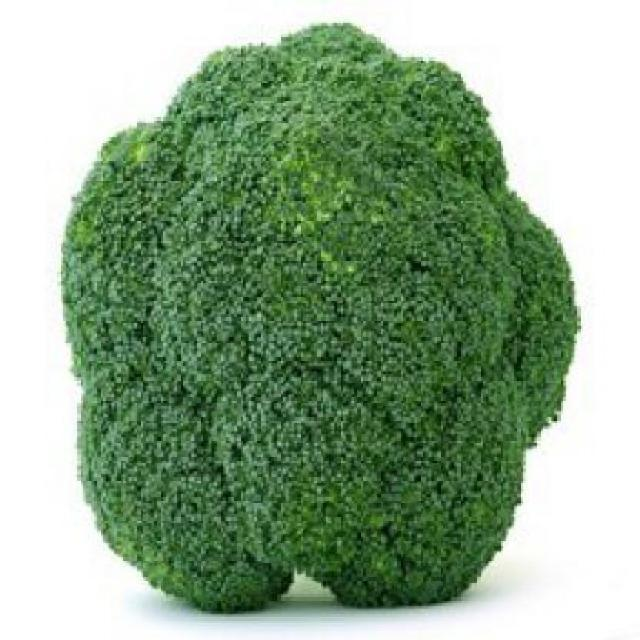broccoli: (62, 31, 592, 614)
